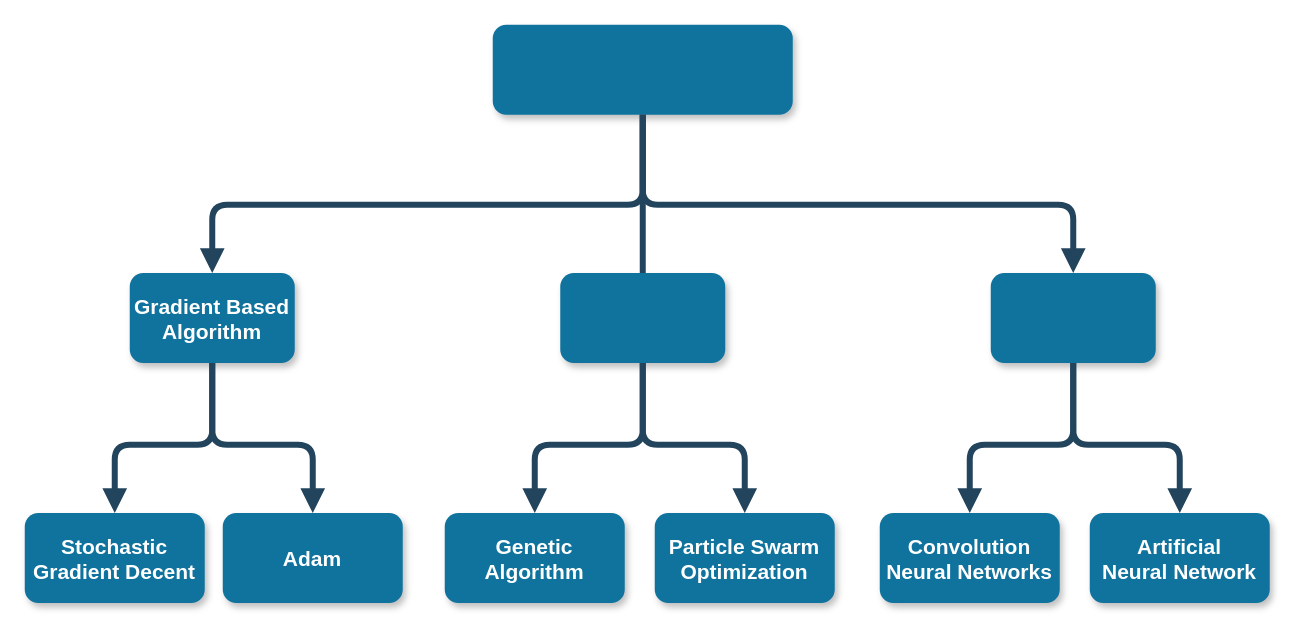
Some shapes in this 1295 by 627 pixel diagram are drawn without their labels. The centre of each missing label's shape, as x and y in pixels:
Evolutionary Algorithm: (x=644, y=319)
Neural Network: (x=1074, y=319)
Optimization Algorithms: (x=643, y=71)
